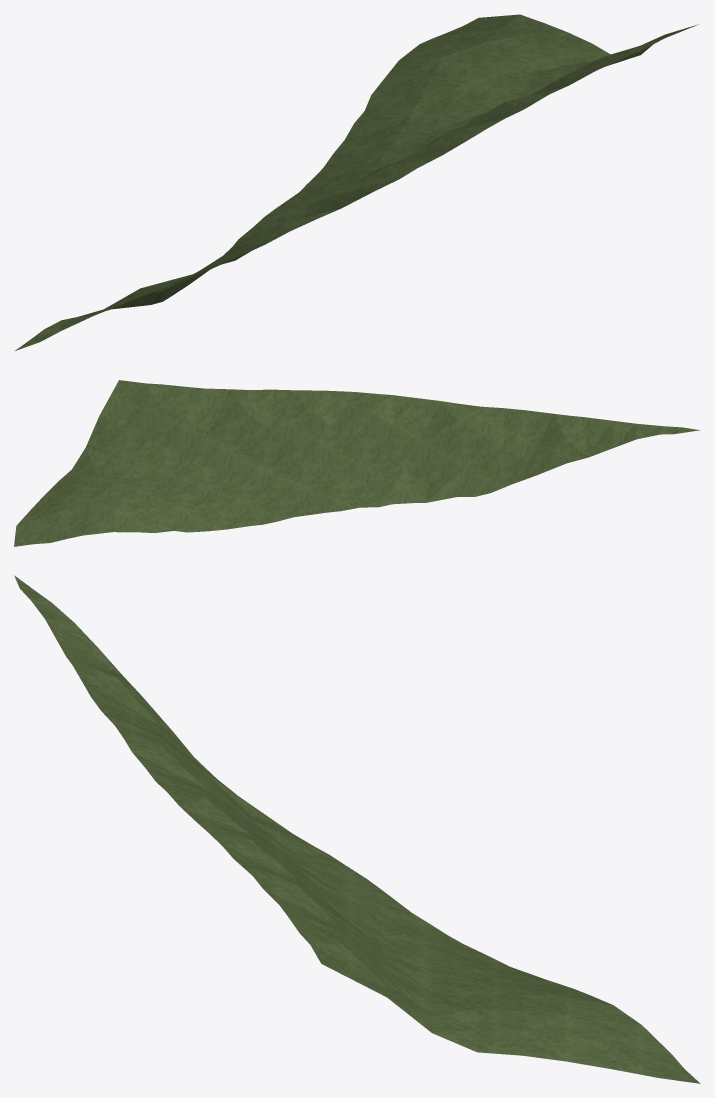
File: a_carisle_mid_landmass_00_06.fbx
The picture shows the model from 3 angles, top to bottom: view 1: azimuth 30°, elevation 25°; view 2: azimuth 150°, elevation 25°; view 3: azimuth 270°, elevation 25°; orthographic projection. The views are drawn at different scales.
Parts seen in each view (by area): view 1: a_carisle_mid_landmass_00_06; view 2: a_carisle_mid_landmass_00_06; view 3: a_carisle_mid_landmass_00_06.
Boxes of the visible parts, x1,y1,x2,y2 form: a_carisle_mid_landmass_00_06: (14,14,698,351); a_carisle_mid_landmass_00_06: (14,380,700,546); a_carisle_mid_landmass_00_06: (14,575,700,1083).
Size of the model in its own units: 46.46 by 34.7 by 7.48.
